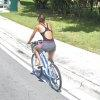bicycles: (29, 35, 63, 92)
